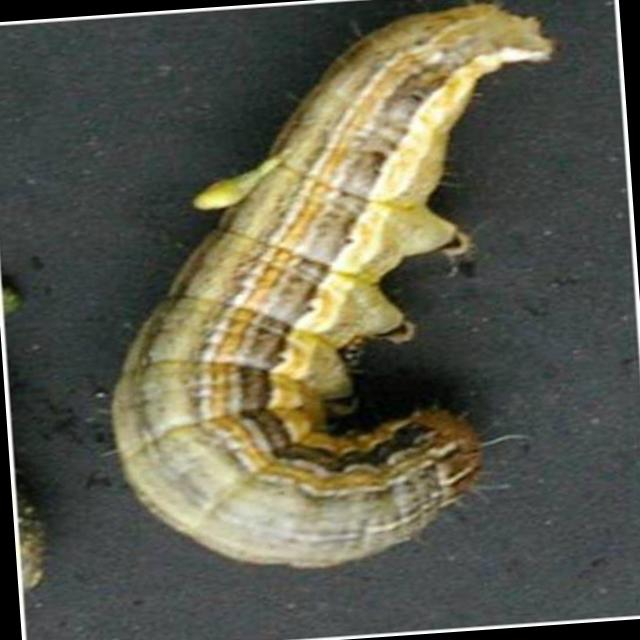armyworm: (65, 1, 601, 596)
